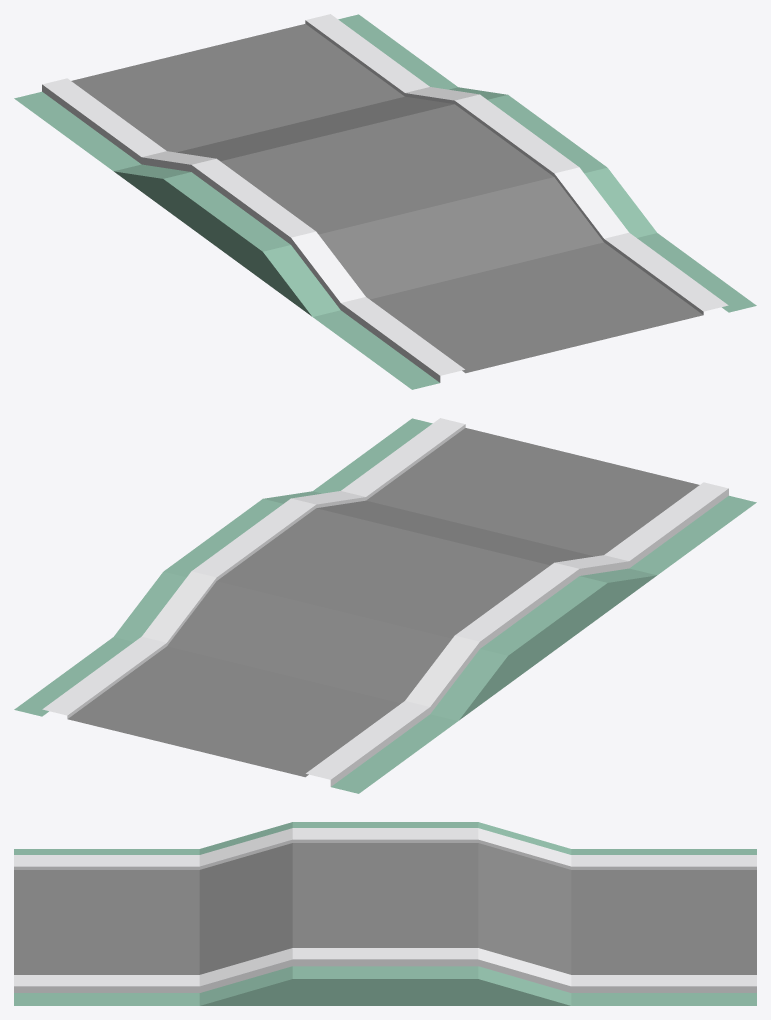
File: roadBump.glb
The picture shows the model from 3 angles, top to bottom: view 1: azimuth 30°, elevation 25°; view 2: azimuth 150°, elevation 25°; view 3: azimuth 270°, elevation 25°; orthographic projection. The views are drawn at different scales.
Visible parts, largest first — view 1: roadBump(Clone); view 2: roadBump(Clone); view 3: roadBump(Clone).
Boxes of the visible parts, x1=… form: roadBump(Clone): x1=14, y1=14, x2=756, y2=389; roadBump(Clone): x1=14, y1=418, x2=756, y2=793; roadBump(Clone): x1=14, y1=822, x2=756, y2=1005.
Bounding box in the file's own units: 1 × 0.1 × 2.
Materials: 1 (1 with a texture image).
